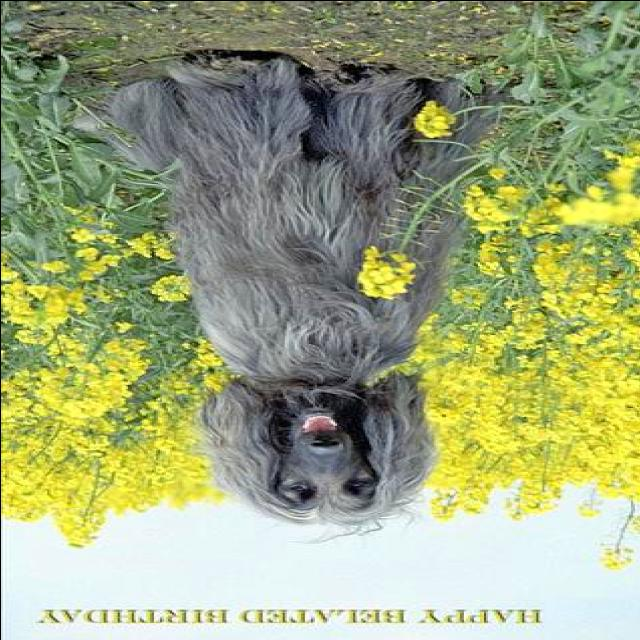afghan_hound: (113, 48, 489, 528)
